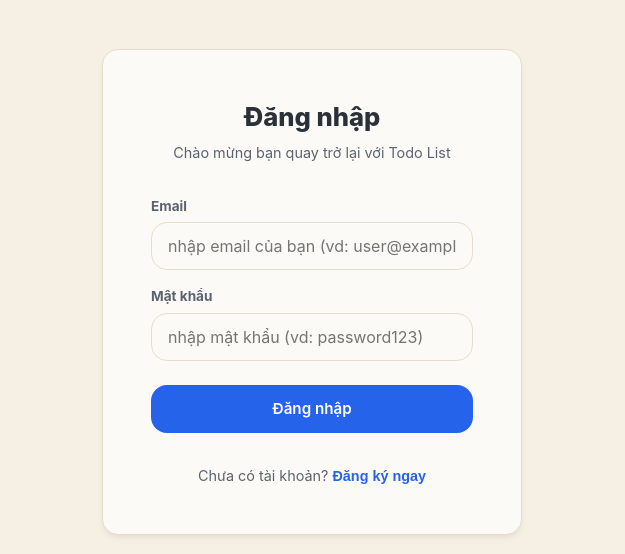
Test: Kiểm thử Luồng Đăng nhập, Đăng ký & Đăng xuất › Đăng nhập thành công với thông tin đúng và mở ra Dashboard
Type "user@example.com" into the field labelled "Email".
click(312, 246); type("user@example.com")  # box [151,222,473,270]
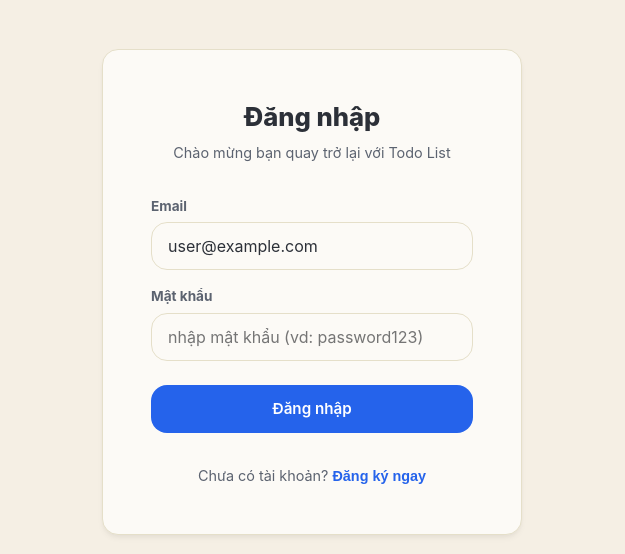
Type "password123" into the password field labelled "Mật khẩu".
click(312, 337); type("password123")  # box [151,313,473,361]
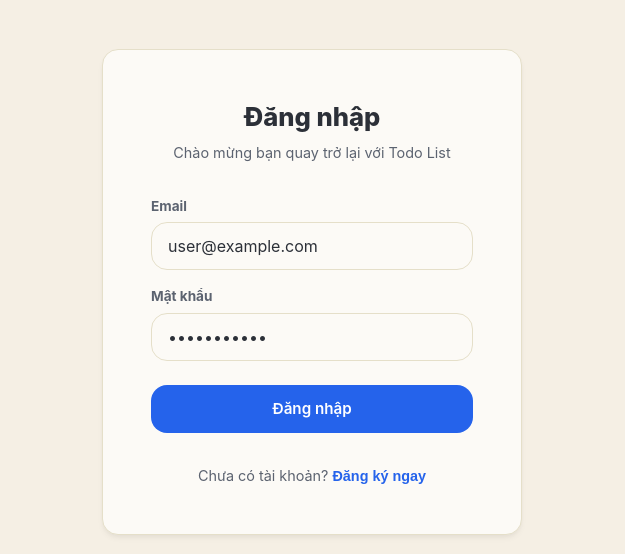
Click the button "Đăng nhập".
click(312, 409)  # box [151,385,473,433]
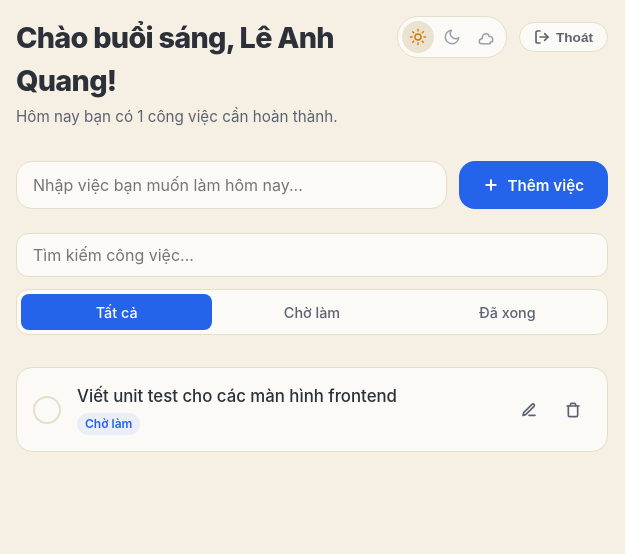
Check: the heading "Chào buổi sáng, Lê Anh Quang!" is shown, box [16,20,334,98]
